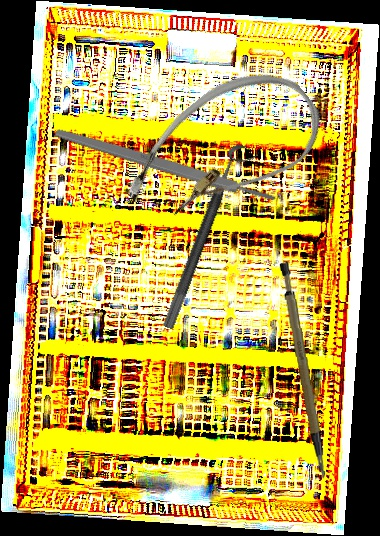Cannula: (109, 44, 337, 259)
Fixation Ring: (161, 141, 260, 336)
Scalpel Handle: (53, 125, 278, 207), (277, 260, 327, 482)
